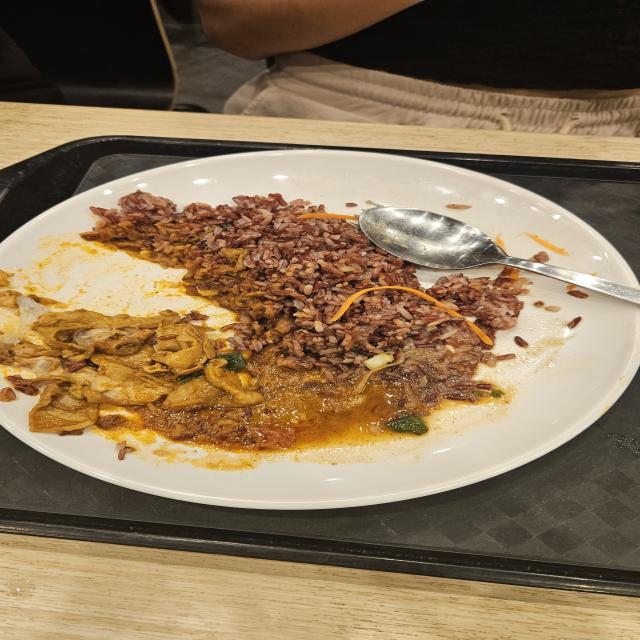Chicken: (14, 310, 264, 432)
Rice: (80, 189, 527, 434), (141, 378, 302, 450)
